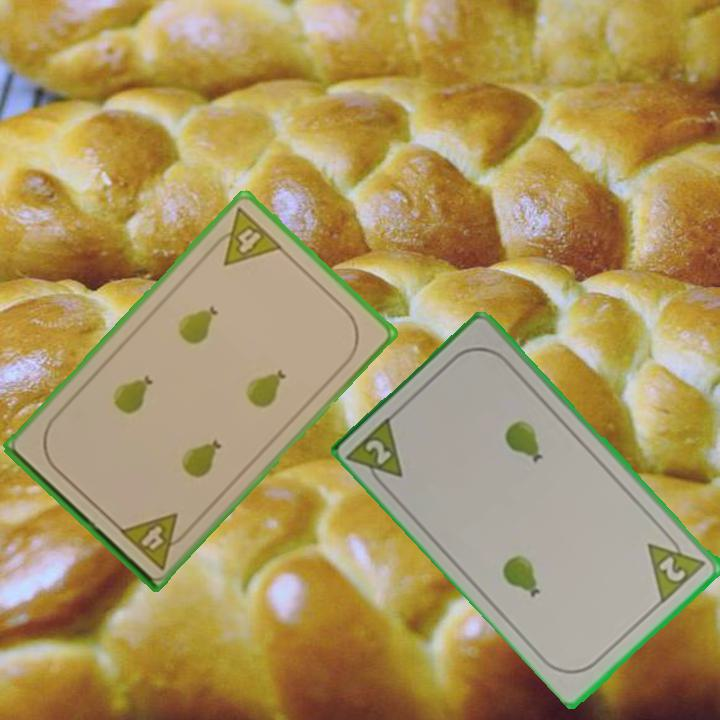2p: (644, 526, 710, 605), (345, 411, 407, 495)
4p: (205, 203, 286, 269), (115, 509, 194, 572)
